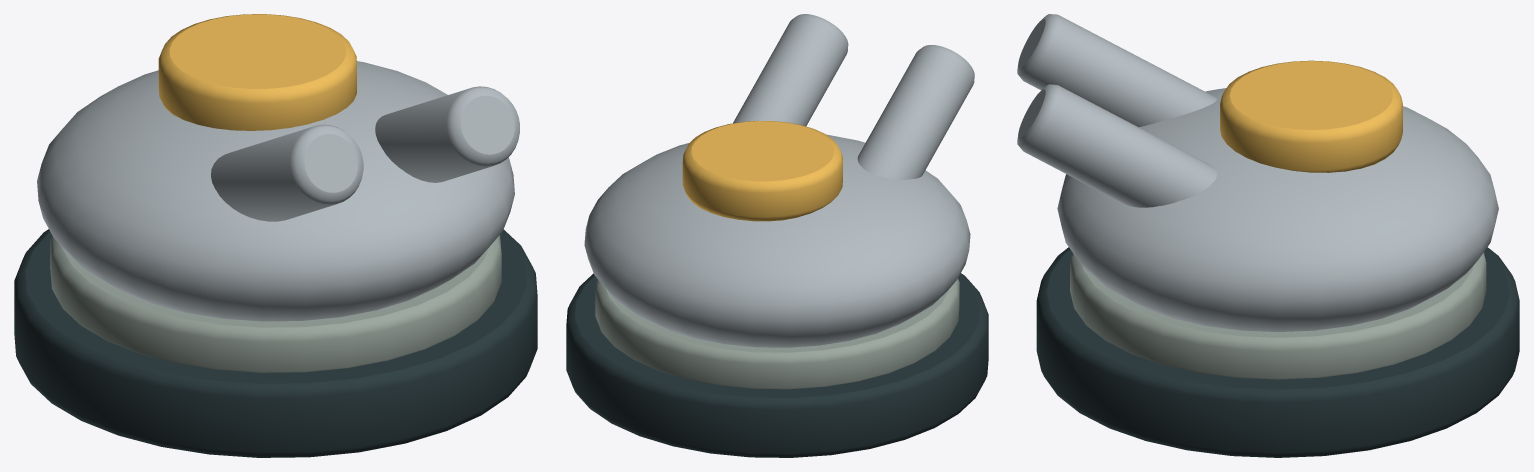
Rendered from battlecity-sleeper-item.glb.
3 renders of one model, left to right at view 1: azimuth 30°, elevation 25°; view 2: azimuth 150°, elevation 25°; view 3: azimuth 270°, elevation 25°, orthographic. The views are drawn at different scales.
Visible parts, largest first — view 1: DX chrome, DX dark machinery, Brushed steel, Command gold; view 2: DX chrome, DX dark machinery, Brushed steel, Command gold; view 3: DX chrome, DX dark machinery, Brushed steel, Command gold.
Boxes of the visible parts, x1,y1,x2,y2 form: DX chrome: (37,61,519,321); DX dark machinery: (14,229,537,457); Brushed steel: (50,235,501,372); Command gold: (158,14,356,130); DX chrome: (584,14,974,347); DX dark machinery: (566,273,988,457); Brushed steel: (595,278,959,389); Command gold: (682,120,842,221); DX chrome: (1017,14,1498,331); DX dark machinery: (1036,247,1519,457); Brushed steel: (1070,252,1486,379); Command gold: (1220,60,1402,172).
Bounding box in the file's own units: 0.58 × 0.4067 × 0.6033.
